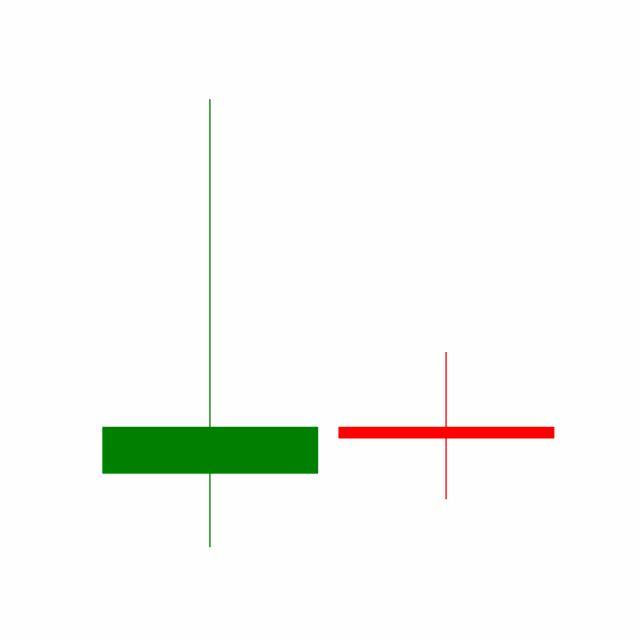Spinning Top: (328, 351, 566, 502)
